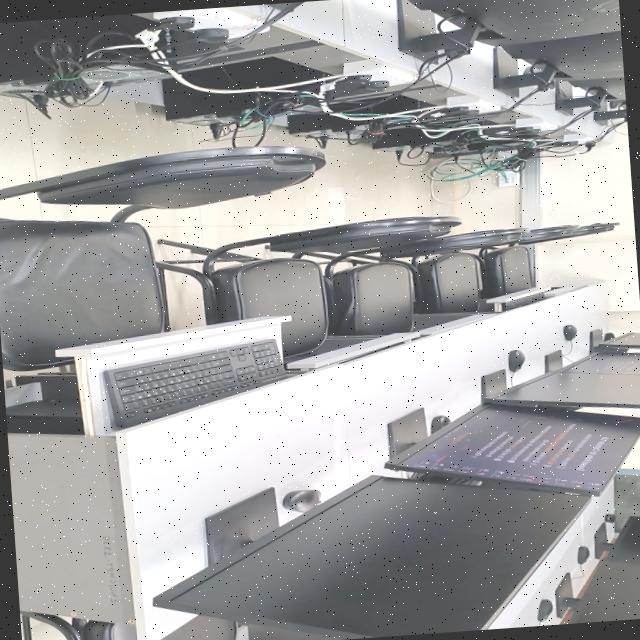Chair: (0, 145, 325, 370), (159, 215, 456, 355), (328, 226, 528, 335), (477, 222, 619, 297), (417, 251, 481, 312)
Cpu: (0, 12, 157, 95), (162, 77, 324, 125), (182, 56, 327, 87), (72, 62, 167, 89)
Keyboard: (104, 338, 290, 426)
Monitor: (155, 475, 591, 639), (386, 404, 640, 495), (408, 0, 620, 44), (485, 351, 640, 407), (504, 29, 624, 78), (581, 564, 640, 622), (603, 515, 640, 563), (571, 76, 625, 99), (591, 332, 640, 351)
Mouse: (283, 488, 320, 512), (430, 414, 451, 433), (508, 349, 525, 371), (563, 324, 577, 339)
